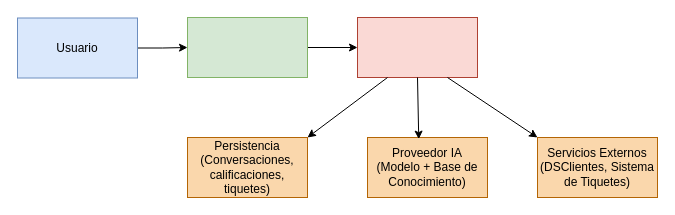
The diagram is 675 pixels wide and 215 high, and some of its shapes have lost their labels. Here are the shapes that lost their labels. From the top down, the centre of each, then its label:
At point 247,47: "Portal de clientes (Frontend)".
At point 417,47: "Backend Paty IA".
